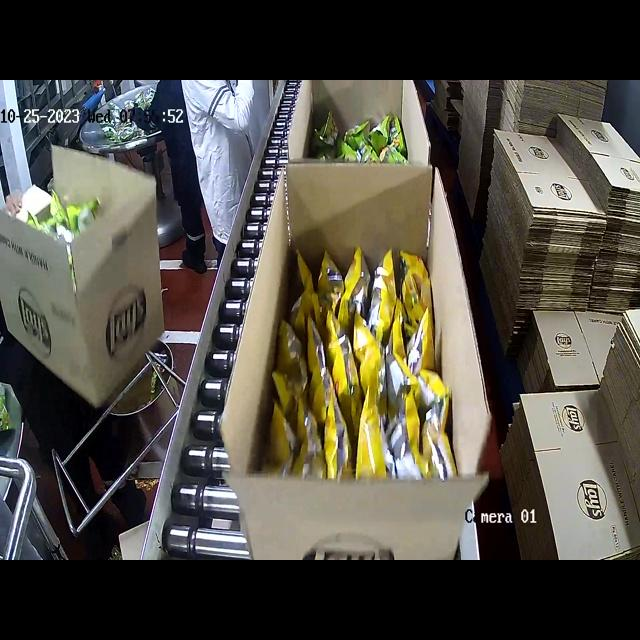salted: (283, 232, 452, 480)
yogurt: (327, 108, 417, 167)
